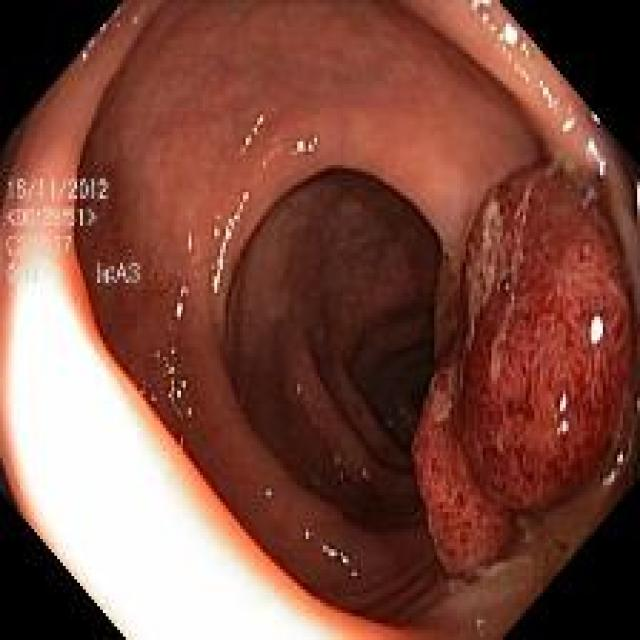Polyps: (412, 159, 636, 581)
